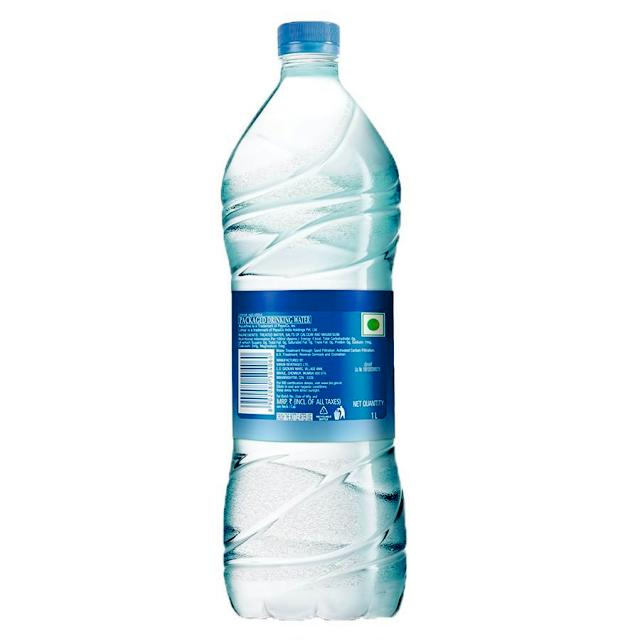full-bottle: (221, 16, 405, 630)
